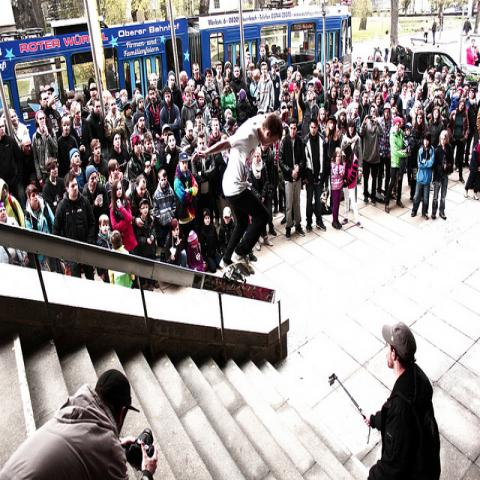bus: (1, 5, 352, 138)
truck: (366, 47, 458, 84)
